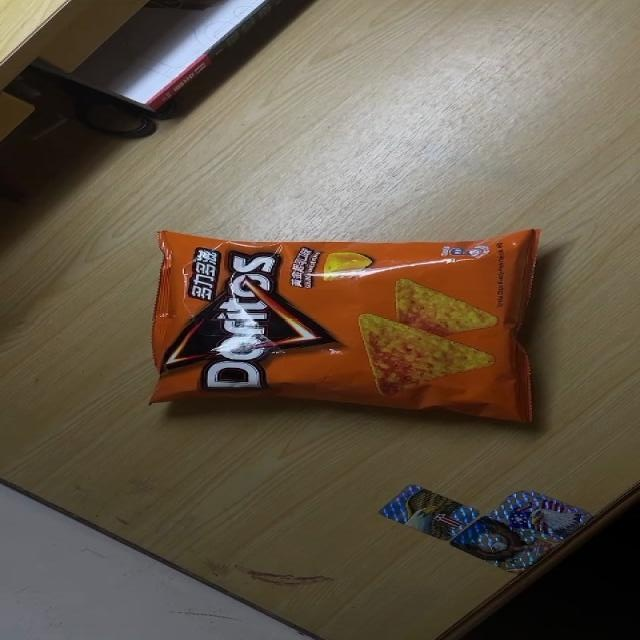Doritos: (141, 228, 545, 428)
